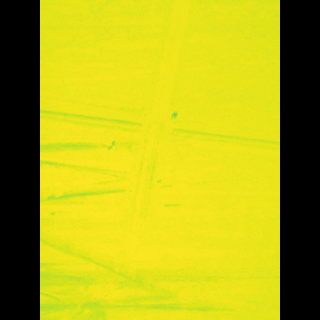Loch: (122, 0, 190, 284), (69, 228, 250, 319), (69, 88, 251, 163), (80, 274, 134, 319)
